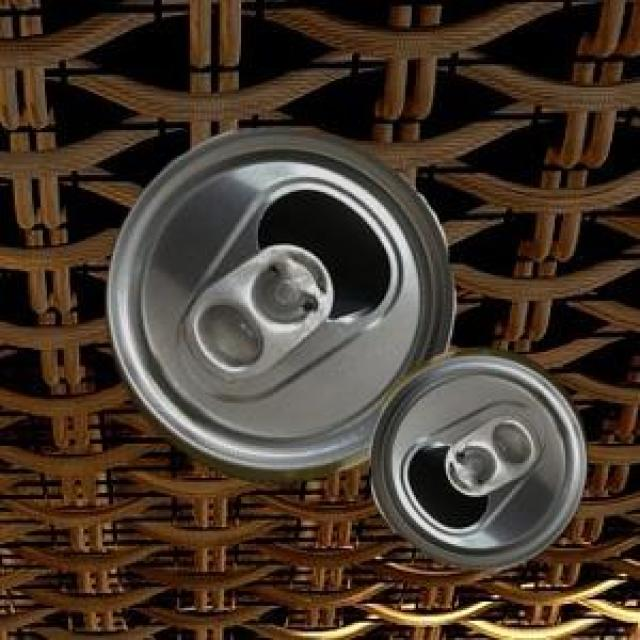logam: (103, 125, 453, 479), (368, 345, 583, 566)
